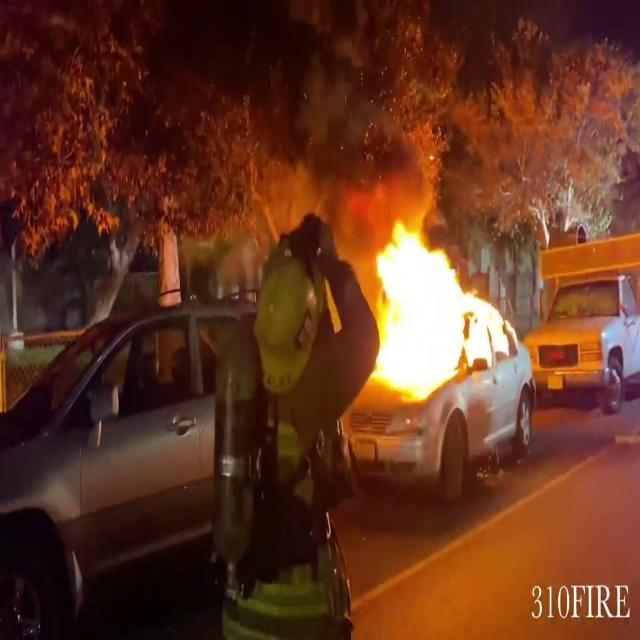Fire: (362, 212, 516, 402)
Smoke: (259, 1, 417, 234)
